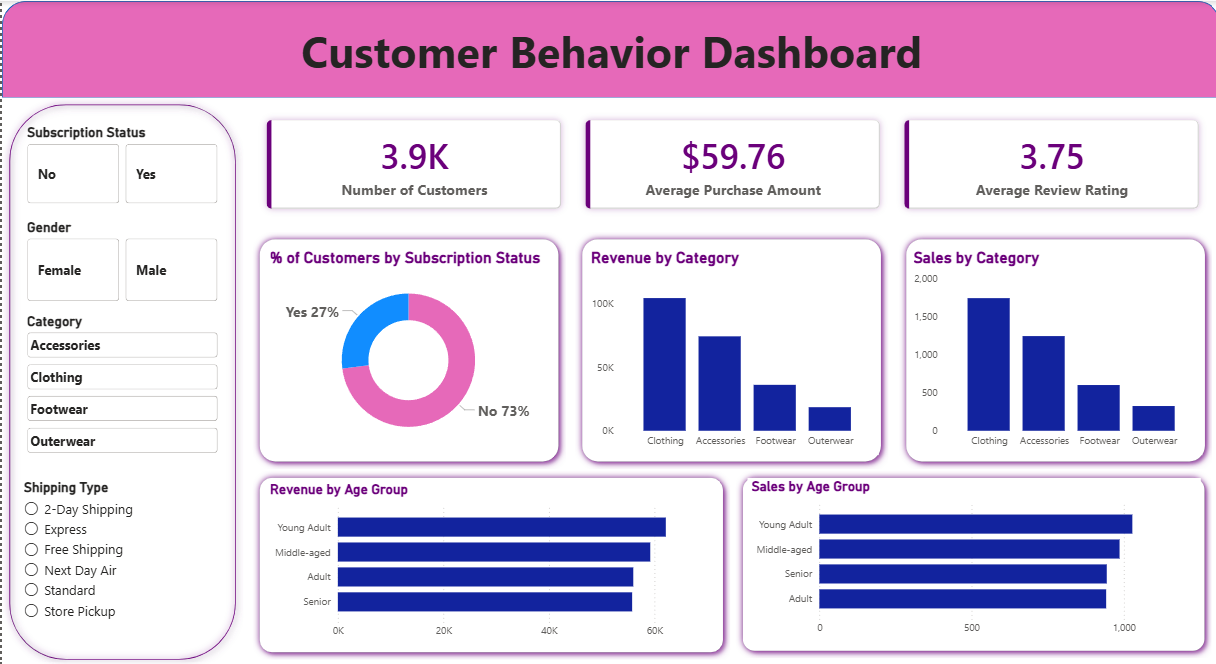

What the dashboard file says about the page in this screenshot:
{"tool":"powerbi","page":{"name":"Page 1","canvas":[1500,820],"ordinal":0},"visuals":[{"type":"shape","box":[308.8,576.7,587.3,232.5],"z":0},{"type":"cardVisual","fields":{"Data":["customer.Number of Customers","customer.Average Purchase Amount","customer.Average Review Rating"]},"box":[296.3,118.9,1203.1,165],"z":1000},{"type":"shape","box":[0,0,1499.4,118.9],"z":2000},{"type":"textbox","box":[0,19.5,1499.4,99.4],"z":3000},{"type":"shape","box":[308.2,283.9,385.1,291],"z":4000},{"type":"donutChart","title":"% of Customers by Subscription Status","fields":{"Category":["customer.subscription_status"],"Y":["CountNonNull(customer.customer_id)"]},"box":[324.7,303.4,349.6,252],"z":5000},{"type":"shape","box":[1101.9,283.9,385.1,291],"z":6000},{"type":"shape","box":[704.5,283.9,385.1,291],"z":7000},{"type":"clusteredColumnChart","title":"Revenue by Category","fields":{"Category":["customer.category"],"Y":["Sum(customer.purchase_amount)"]},"box":[718.7,303.4,358.4,253.7],"z":8000},{"type":"clusteredColumnChart","title":"Sales by Category","fields":{"Category":["customer.category"],"Y":["CountNonNull(customer.customer_id)"]},"box":[1115,303.8,360,253.8],"z":9000},{"type":"shape","box":[0,118.9,296.3,700.9],"z":10000},{"type":"advancedSlicerVisual","fields":{"Values":["customer.subscription_status"]},"box":[26.6,150.8,244.9,102.9],"z":11000},{"type":"advancedSlicerVisual","fields":{"Values":["customer.gender"]},"box":[26.6,267.9,244.9,106.5],"z":12000},{"type":"advancedSlicerVisual","fields":{"Values":["customer.category"]},"box":[26.6,378,244.9,182.8],"z":13000},{"type":"listSlicer","fields":{"Values":["customer.shipping_type"]},"box":[26.6,587.3,244.9,232.5],"z":14000},{"type":"shape","box":[901.4,576.7,585.6,230.7],"z":15000},{"type":"clusteredBarChart","title":"Sales by Age Group","fields":{"Category":["customer.age_group"],"Y":["CountNonNull(customer.customer_id)"]},"box":[915.6,587.3,557.2,202.3],"z":16000},{"type":"clusteredBarChart","title":"Revenue by Age Group","fields":{"Y":["Sum(customer.purchase_amount)"],"Category":["customer.age_group"]},"box":[324.7,590.9,557.2,202.3],"z":17000}]}

Visuals, with their boxes in screenshot pixels (x1, y1, x2, y2), scaled from the page's 1500x820 canvas onto the 1216x664 screenshot:
shape: [250,467,726,655]
cardVisual - customer.Number of Customers x customer.Average Purchase Amount: [240,96,1215,230]
shape: [0,0,1215,96]
textbox: [0,16,1215,96]
shape: [250,230,562,466]
"% of Customers by Subscription Status" donutChart: [263,246,547,450]
shape: [893,230,1205,466]
shape: [571,230,883,466]
"Revenue by Category" clusteredColumnChart: [583,246,873,451]
"Sales by Category" clusteredColumnChart: [904,246,1196,452]
shape: [0,96,240,663]
advancedSlicerVisual - customer.subscription_status: [22,122,220,205]
advancedSlicerVisual - customer.gender: [22,217,220,303]
advancedSlicerVisual - customer.category: [22,306,220,454]
listSlicer - customer.shipping_type: [22,476,220,663]
shape: [731,467,1205,654]
"Sales by Age Group" clusteredBarChart: [742,476,1194,639]
"Revenue by Age Group" clusteredBarChart: [263,478,715,642]
